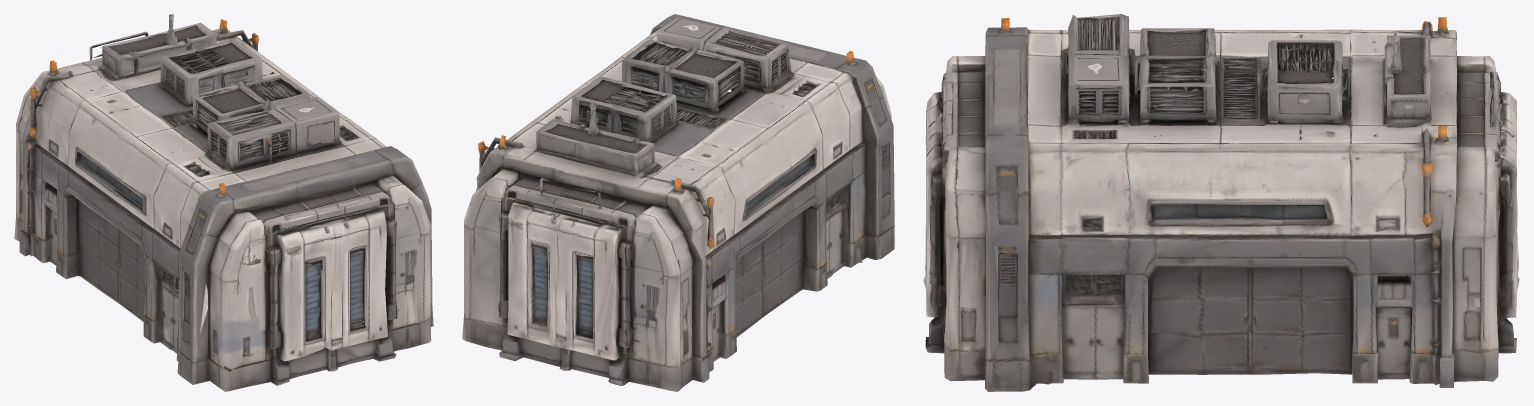
Rendered from plantBlock.glb.
3 views of the same model, side by side, from view 1: azimuth 30°, elevation 25°; view 2: azimuth 150°, elevation 25°; view 3: azimuth 270°, elevation 25° (orthographic). The views are drawn at different scales.
Parts seen in each view (by area): view 1: plantBlock; view 2: plantBlock; view 3: plantBlock.
Part boxes in pixels (bbox=[...]): plantBlock: bbox=[14, 14, 433, 391]; plantBlock: bbox=[462, 14, 894, 391]; plantBlock: bbox=[923, 14, 1519, 391].
Bounding box in the file's own units: 15.81 × 13.97 × 26.
1 material, 1 textured.
